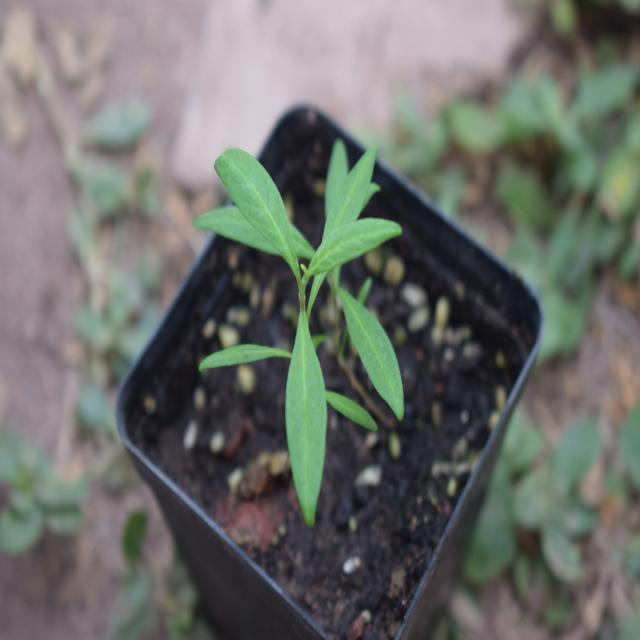white_smart_weed: (195, 138, 438, 488)
